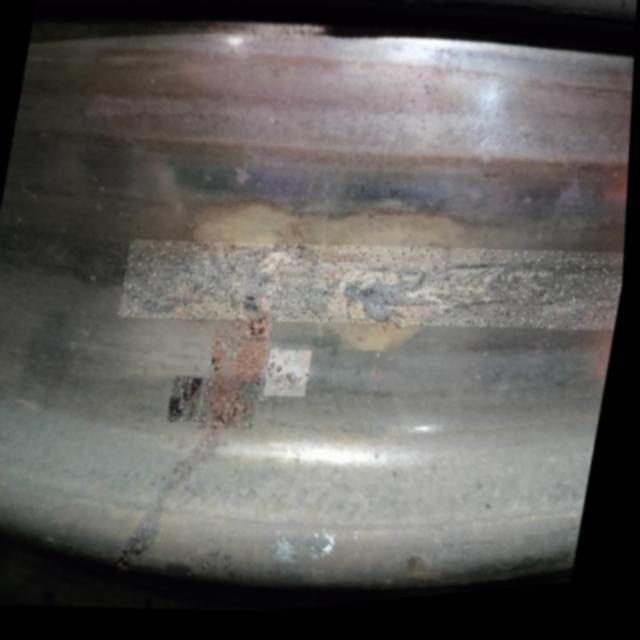Blue hole: (172, 379, 209, 430)
Rollerpile: (310, 240, 631, 345)
